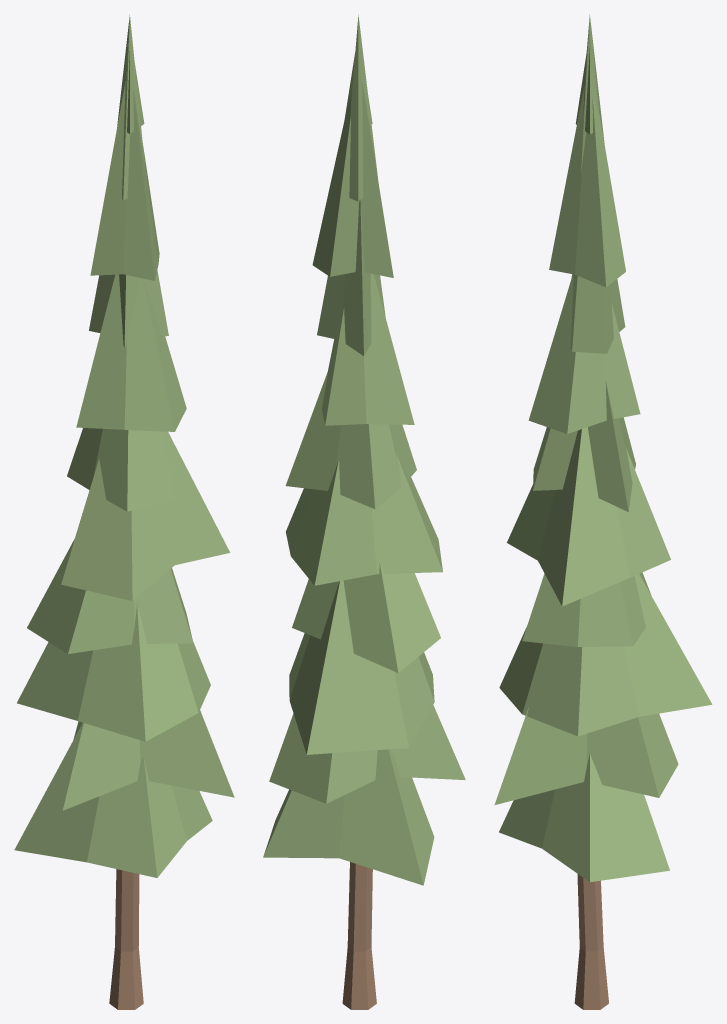
Rendered from larch.glb.
The picture shows the model from 3 angles, left to right: view 1: azimuth 30°, elevation 25°; view 2: azimuth 150°, elevation 25°; view 3: azimuth 270°, elevation 25°; orthographic projection.
Parts seen in each view (by area): view 1: european-larch-mature; view 2: european-larch-mature; view 3: european-larch-mature.
Boxes of the visible parts, bbox=[...] form: european-larch-mature: bbox=[14, 14, 234, 1009]; european-larch-mature: bbox=[263, 14, 465, 1009]; european-larch-mature: bbox=[494, 14, 712, 1009].
Bounding box in the file's own units: 4.71 × 25.17 × 5.02.
